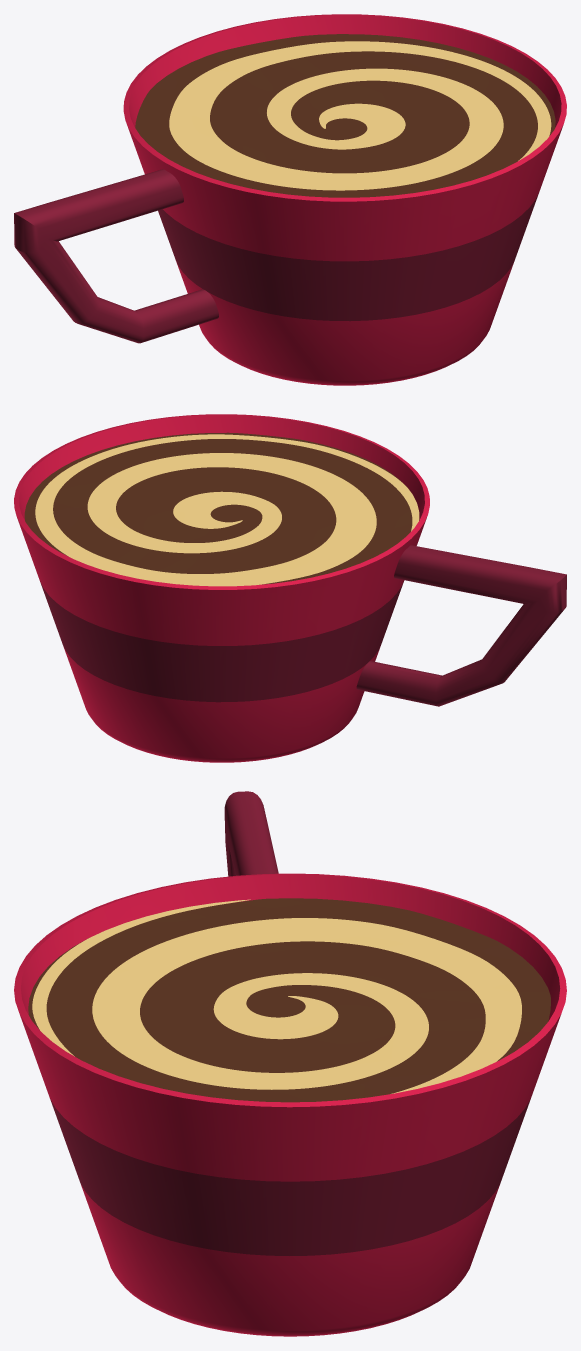
The model's file is Tea Cup.fbx.
The picture shows the model from 3 angles, top to bottom: view 1: azimuth 30°, elevation 25°; view 2: azimuth 150°, elevation 25°; view 3: azimuth 270°, elevation 25°; orthographic projection. The views are drawn at different scales.
Visible parts, largest first — view 1: Spiral.005, Circle.057, Circle.060, Spiral.004, Circle.059, Circle.058; view 2: Spiral.005, Circle.057, Circle.060, Spiral.004, Circle.059, Circle.058; view 3: Spiral.005, Circle.057, Circle.060, Spiral.004, Circle.059, Circle.058.
Part boxes in pixels (box(x1,y1,x2,y2)): Spiral.005: box(135, 34, 555, 197); Circle.057: box(129, 15, 561, 385); Circle.060: box(123, 14, 566, 261); Spiral.004: box(169, 41, 551, 190); Circle.059: box(158, 193, 538, 321); Circle.058: box(14, 169, 218, 343); Spiral.005: box(24, 432, 412, 584); Circle.057: box(19, 415, 424, 762); Circle.060: box(14, 414, 429, 645); Spiral.004: box(35, 434, 419, 586); Circle.059: box(40, 581, 403, 702); Circle.058: box(356, 545, 566, 706); Spiral.005: box(28, 898, 550, 1102); Circle.057: box(21, 874, 560, 1336); Circle.060: box(14, 873, 566, 1181); Spiral.004: box(32, 899, 521, 1093); Circle.059: box(50, 1099, 530, 1255); Circle.058: box(224, 791, 278, 876).
Bounding box in the file's own units: 1566 × 619 × 1118.
Materials: 1 (1 with a texture image).
